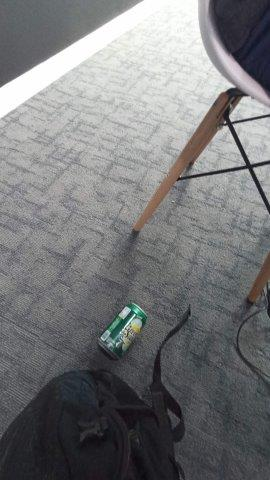kaleng: (98, 303, 148, 361)
